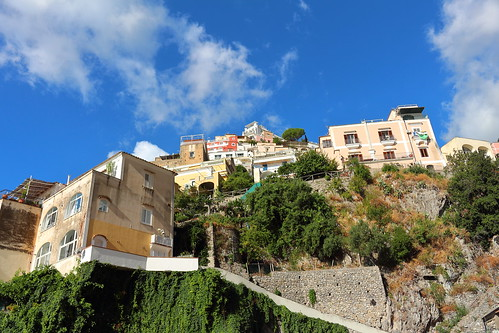building: (42, 160, 176, 279), (317, 109, 446, 176), (161, 140, 227, 207), (205, 123, 251, 161)
sky: (1, 1, 499, 117)
tree: (245, 182, 338, 267), (438, 156, 499, 257)
